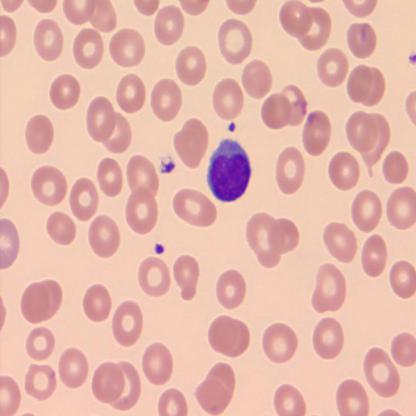Lymphocyte: (207, 138, 252, 203)
